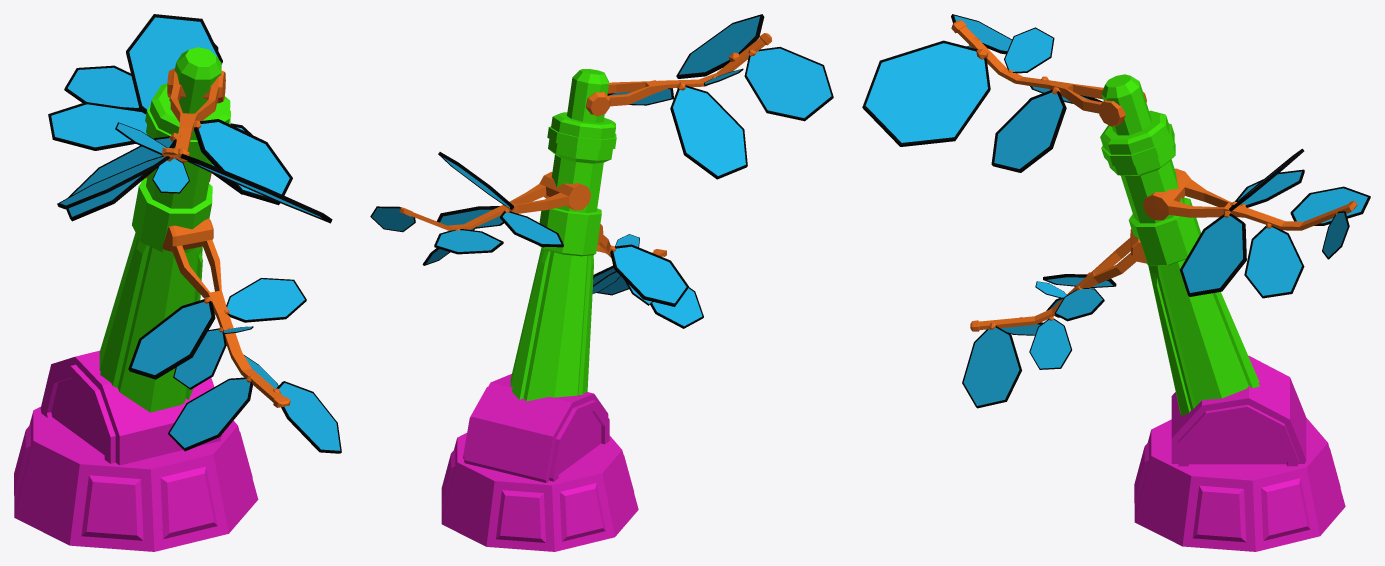
Rendered from BigTree 1.fbx.
The picture shows the model from 3 angles, left to right: view 1: azimuth 30°, elevation 25°; view 2: azimuth 150°, elevation 25°; view 3: azimuth 270°, elevation 25°; orthographic projection. The views are drawn at different scales.
Parts seen in each view (by area): view 1: socle, PanneauxSolaires, tige, bordures, branches; view 2: socle, PanneauxSolaires, tige, branches, bordures; view 3: PanneauxSolaires, socle, tige, branches, bordures.
Part boxes in pixels (x1=…): socle: x1=14, y1=350, x2=258, y2=551; PanneauxSolaires: x1=51, y1=17, x2=340, y2=450; tige: x1=99, y1=47, x2=230, y2=412; bordures: x1=48, y1=14, x2=341, y2=453; branches: x1=145, y1=68, x2=290, y2=407; socle: x1=441, y1=374, x2=638, y2=551; PanneauxSolaires: x1=372, y1=16, x2=831, y2=326; tige: x1=510, y1=69, x2=616, y2=401; branches: x1=399, y1=33, x2=771, y2=257; bordures: x1=370, y1=14, x2=833, y2=328; PanneauxSolaires: x1=865, y1=15, x2=1367, y2=405; socle: x1=1134, y1=355, x2=1345, y2=551; tige: x1=1100, y1=74, x2=1259, y2=415; branches: x1=951, y1=20, x2=1357, y2=331; bordures: x1=862, y1=14, x2=1370, y2=408.
Bounding box in the file's own units: 251 × 330 × 352.
